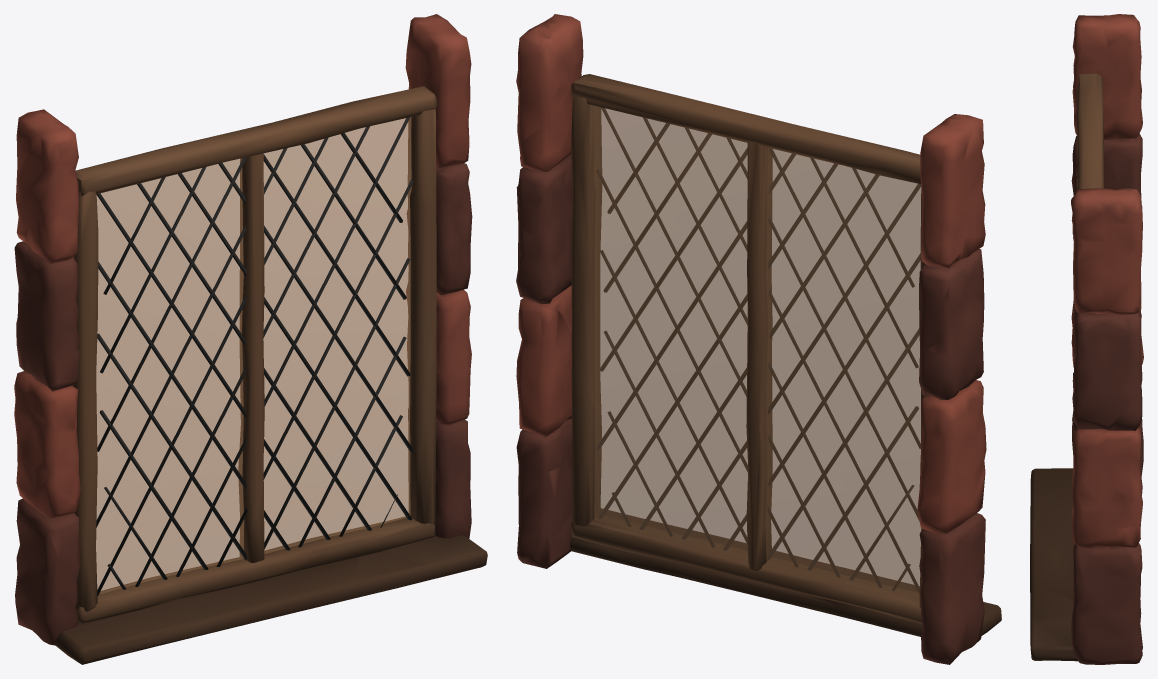
File: ember_window_lod1.glb
3 renders of one model, left to right at view 1: azimuth 30°, elevation 25°; view 2: azimuth 150°, elevation 25°; view 3: azimuth 270°, elevation 25°, orthographic. The views are drawn at different scales.
Visible parts, largest first — view 1: ember_window.001; view 2: ember_window.001; view 3: ember_window.001.
Part boxes in pixels (left/top/right/bottom): ember_window.001: left=14, top=14, right=487, bottom=664; ember_window.001: left=516, top=14, right=1001, bottom=664; ember_window.001: left=1030, top=14, right=1143, bottom=664.
Size of the model in its own units: 52.46 by 60.31 by 13.28.
